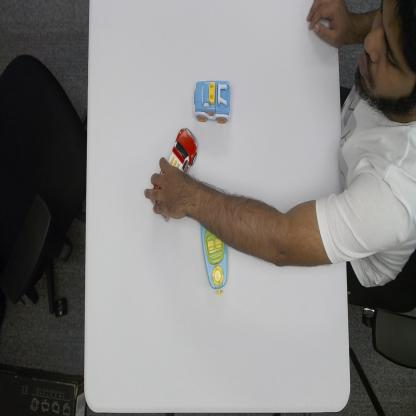Arm: (185, 176, 346, 268)
Boat: (199, 222, 230, 299)
Car: (192, 76, 233, 126)
Firetruck: (166, 124, 199, 174)
Hand: (144, 154, 192, 220), (307, 0, 339, 45)
